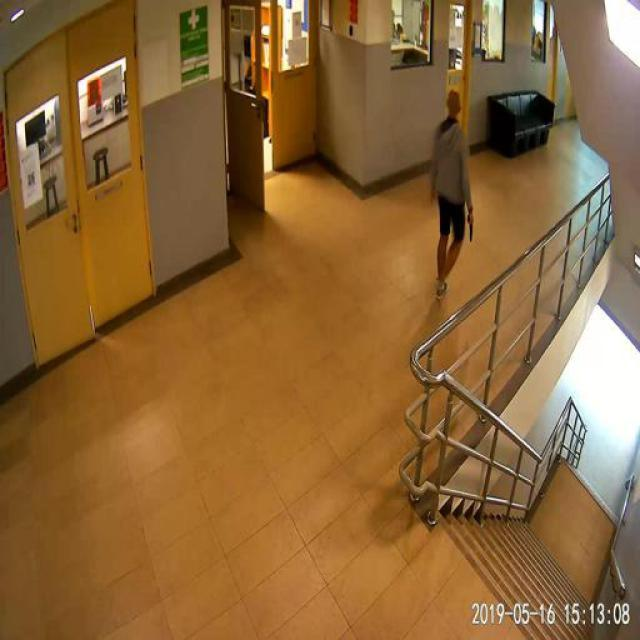weapon: (467, 210, 475, 243)
